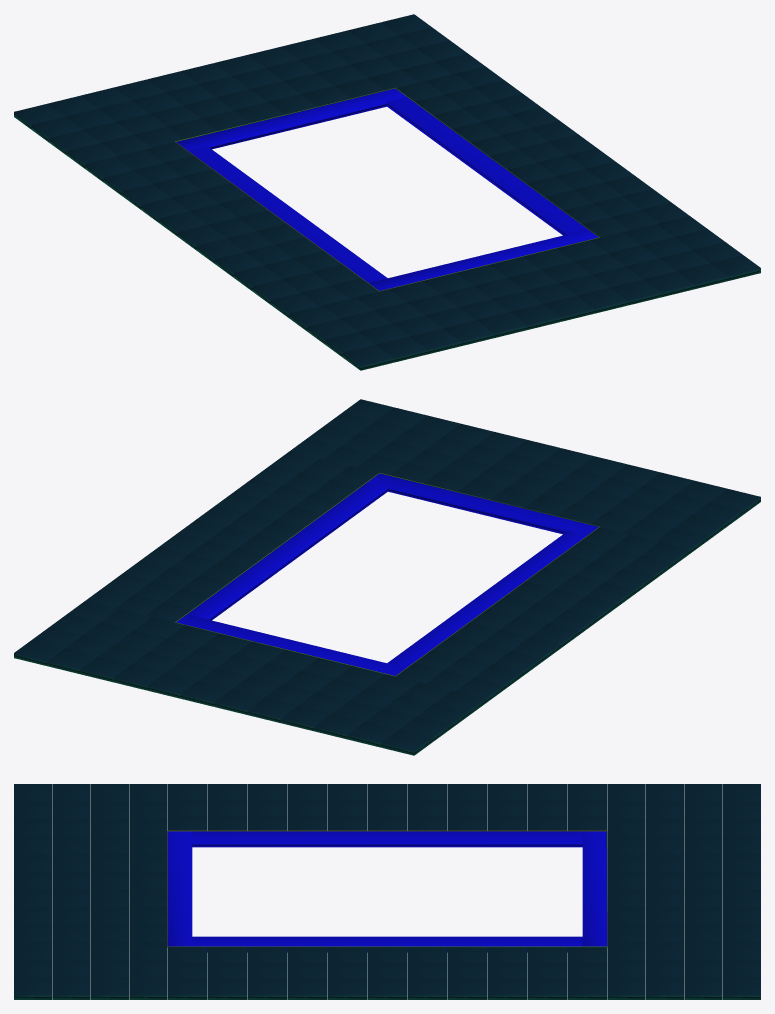
File: sanctum_nave_floor.glb
3 views of the same model, one above another, from view 1: azimuth 30°, elevation 25°; view 2: azimuth 150°, elevation 25°; view 3: azimuth 270°, elevation 25° (orthographic). The views are drawn at different scales.
Parts seen in each view (by area): view 1: sanctum_nave_floor; view 2: sanctum_nave_floor; view 3: sanctum_nave_floor.
Boxes of the visible parts, x1,y1,x2,y2 form: sanctum_nave_floor: (14, 14, 760, 370); sanctum_nave_floor: (14, 399, 760, 755); sanctum_nave_floor: (14, 784, 760, 999).
Size of what is drawn, in the model's own units: 23.98 by 0.3215 by 35.98.
